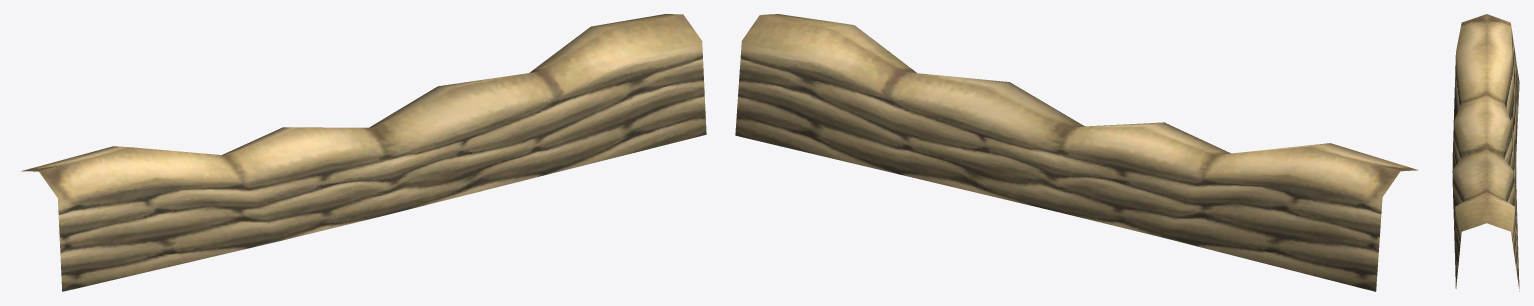
Rendered from Sandbags2_Med_Dipped.glb.
3 renders of one model, left to right at view 1: azimuth 30°, elevation 25°; view 2: azimuth 150°, elevation 25°; view 3: azimuth 270°, elevation 25°, orthographic. The views are drawn at different scales.
Parts seen in each view (by area): view 1: SANDBAGS2_MED_DIPPED; view 2: SANDBAGS2_MED_DIPPED; view 3: SANDBAGS2_MED_DIPPED.
Boxes of the visible parts, x1,y1,x2,y2 form: SANDBAGS2_MED_DIPPED: [21, 14, 706, 291]; SANDBAGS2_MED_DIPPED: [735, 14, 1418, 291]; SANDBAGS2_MED_DIPPED: [1452, 14, 1519, 291].
Size of the model in its own units: 4 by 0.629 by 0.542.
Materials: 1 (1 with a texture image).
